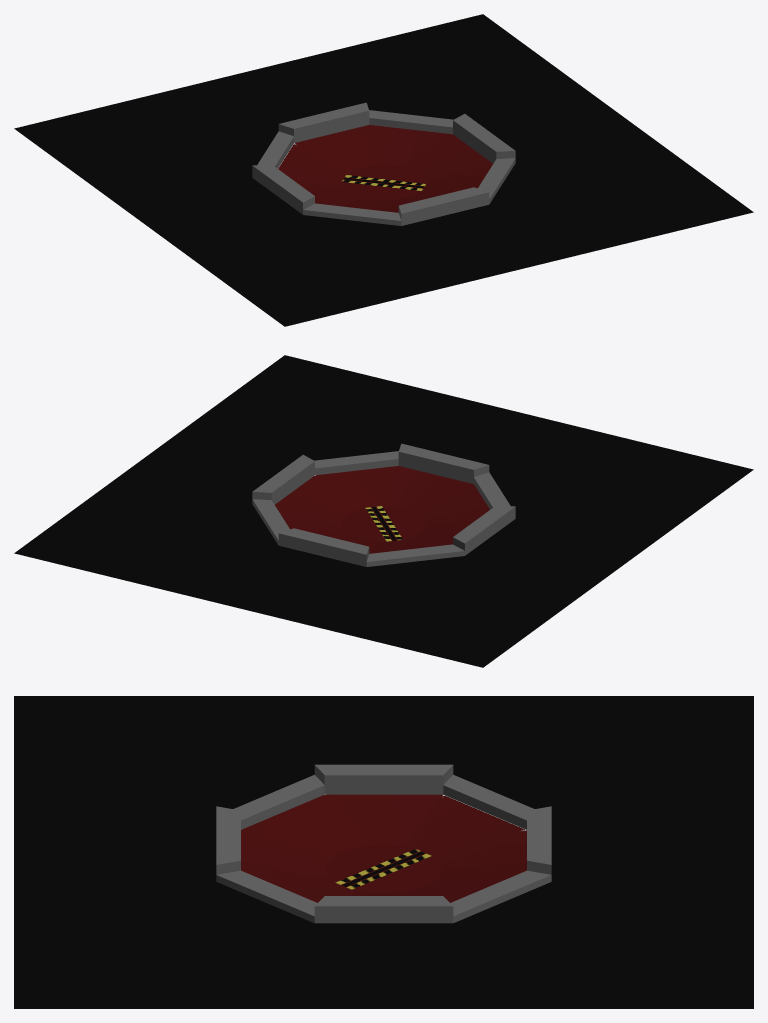
The model's file is terrain.glb.
The picture shows the model from 3 angles, top to bottom: view 1: azimuth 30°, elevation 25°; view 2: azimuth 150°, elevation 25°; view 3: azimuth 270°, elevation 25°; orthographic projection. The views are drawn at different scales.
Visible parts, largest first — view 1: Terrain; view 2: Terrain; view 3: Terrain.
Boxes of the visible parts, x1,y1,x2,y2 form: Terrain: (14,14,753,326); Terrain: (14,355,753,667); Terrain: (14,696,753,1008).
Bounding box in the file's own units: 143 × 7.21 × 143.
1 material, 1 textured.
